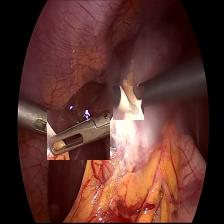Grasper: (47, 110, 110, 160)
Hook: (113, 86, 144, 120)
